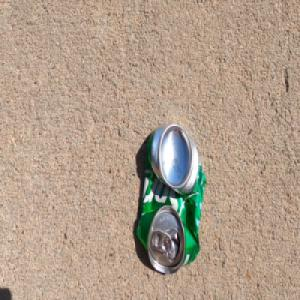SodaCan: (135, 122, 206, 275)
